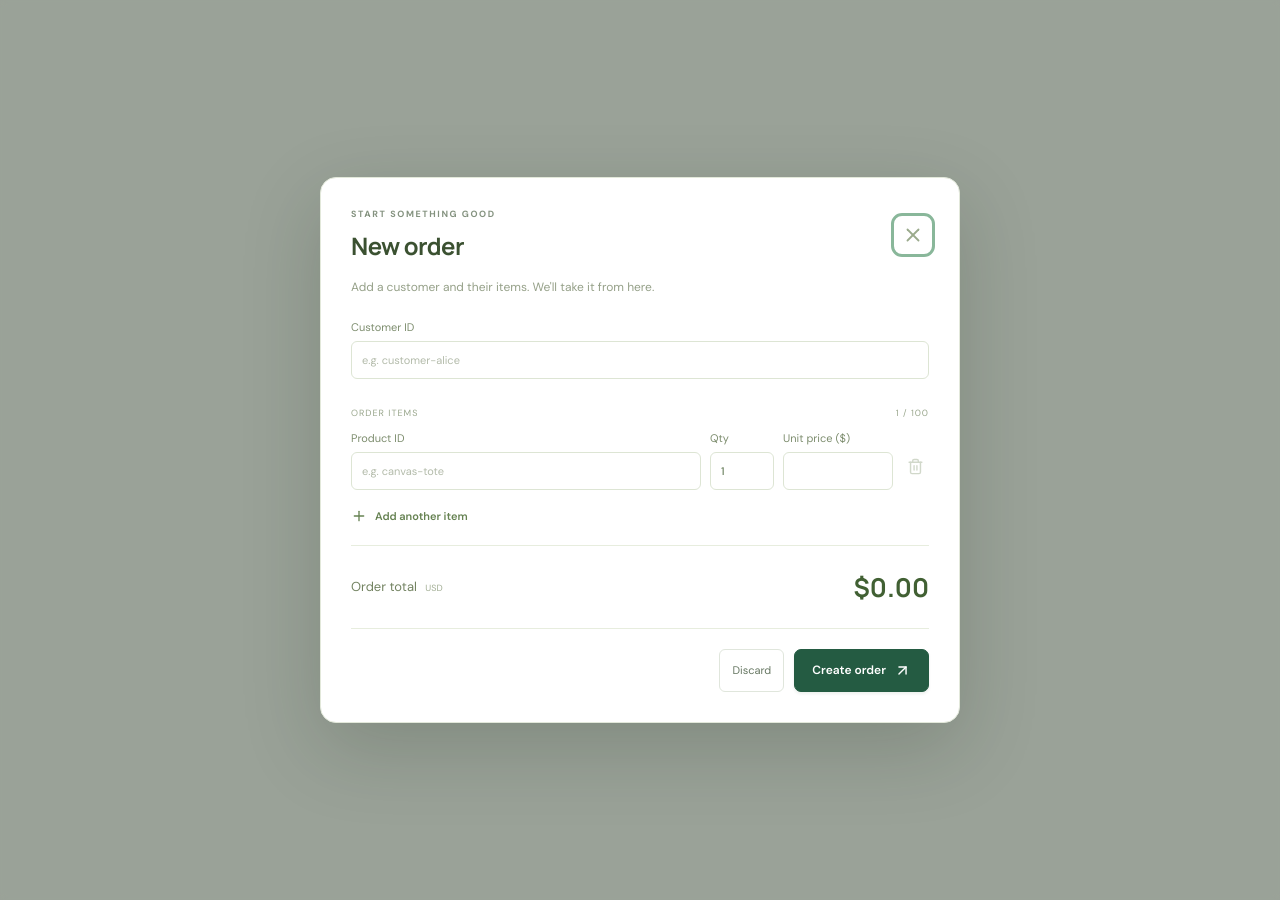
Test: keeps form data after server validation failure
Type "alice" into the field labelled "Customer ID" at (640, 360), box [351,341,929,379]
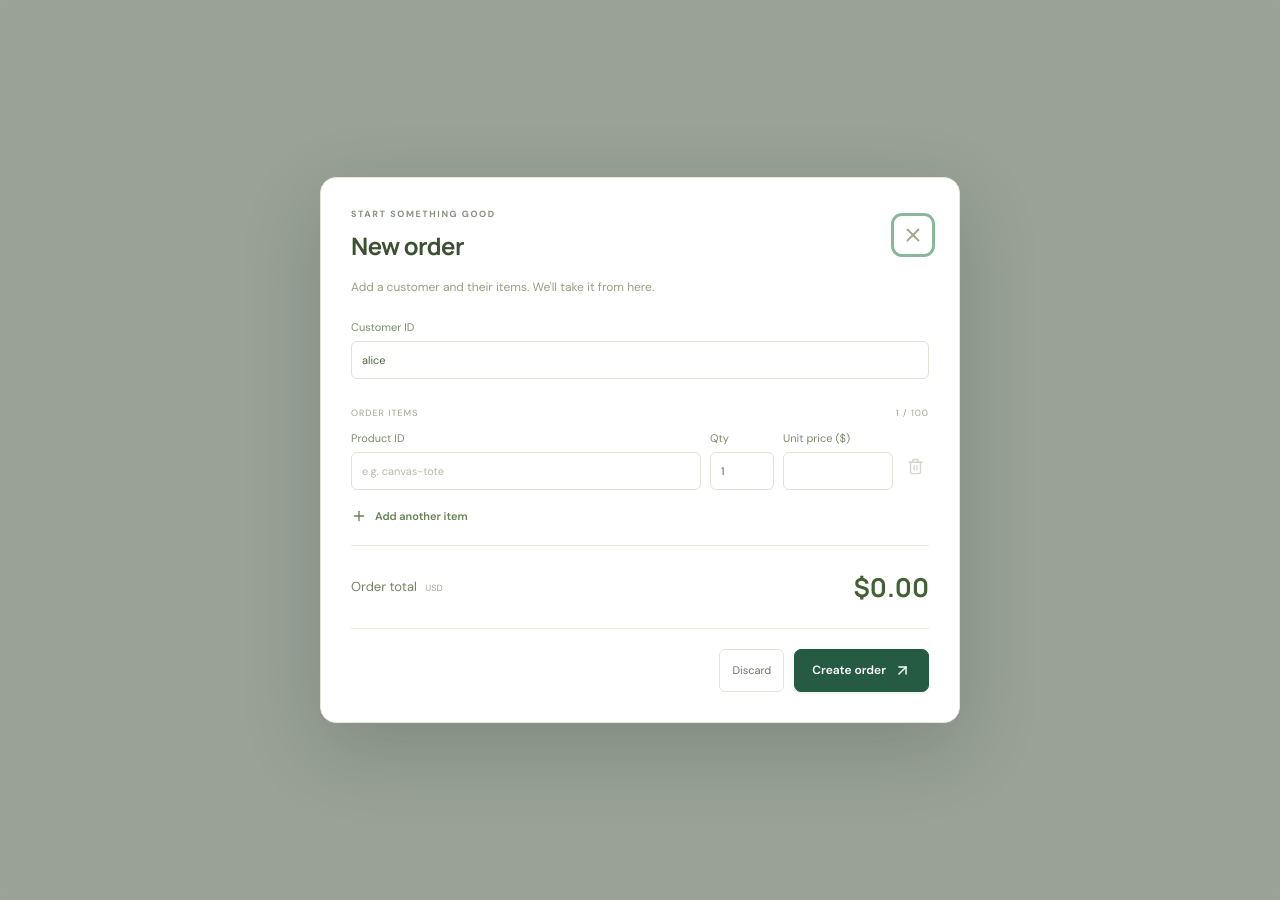
Type "book" into the field named "Product 1" at (526, 471), box [351,452,701,490]
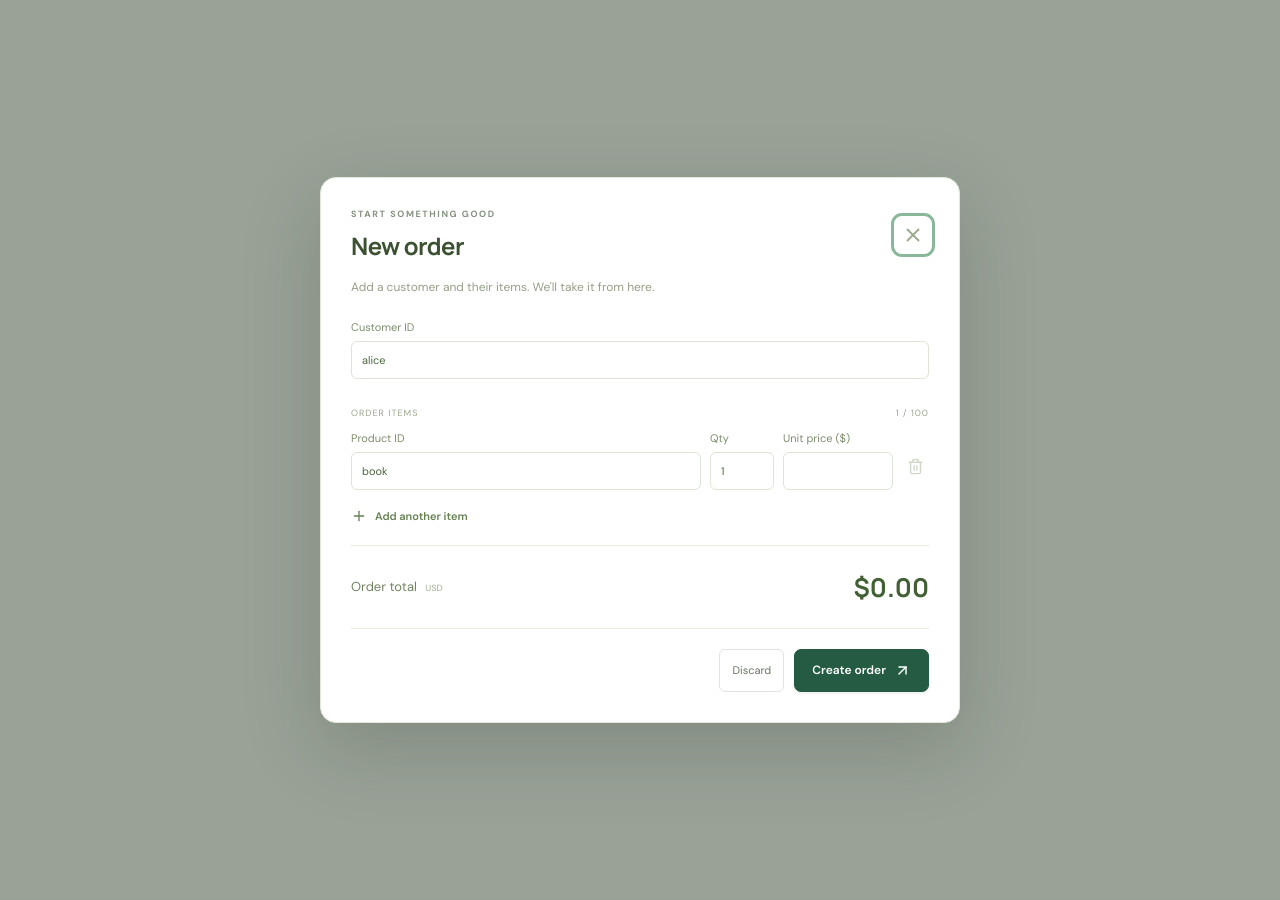
Type "2" into the number field named "Price 1" at (838, 471), box [783,452,893,490]
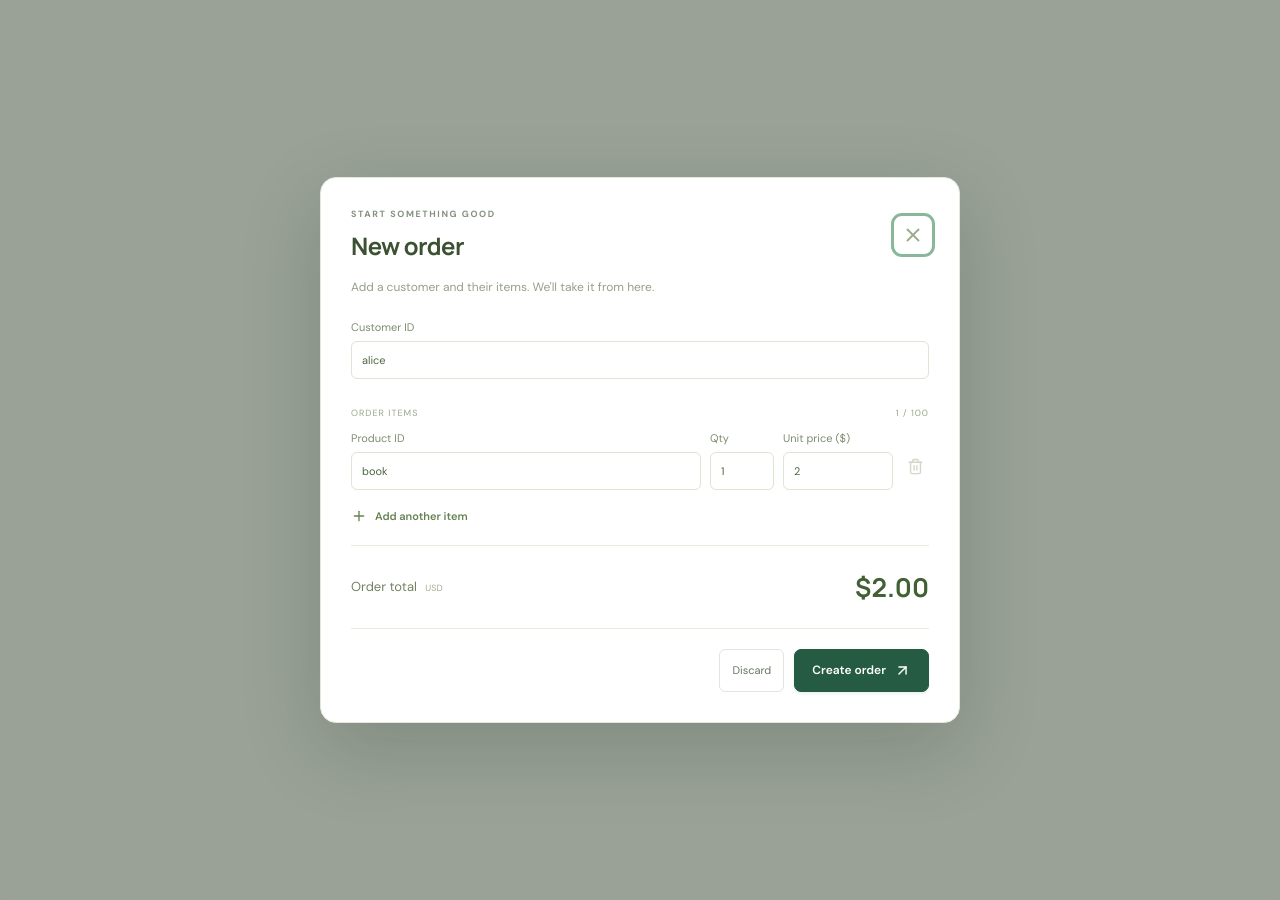
Click the button "Create order" at (862, 670), box [794,649,929,692]
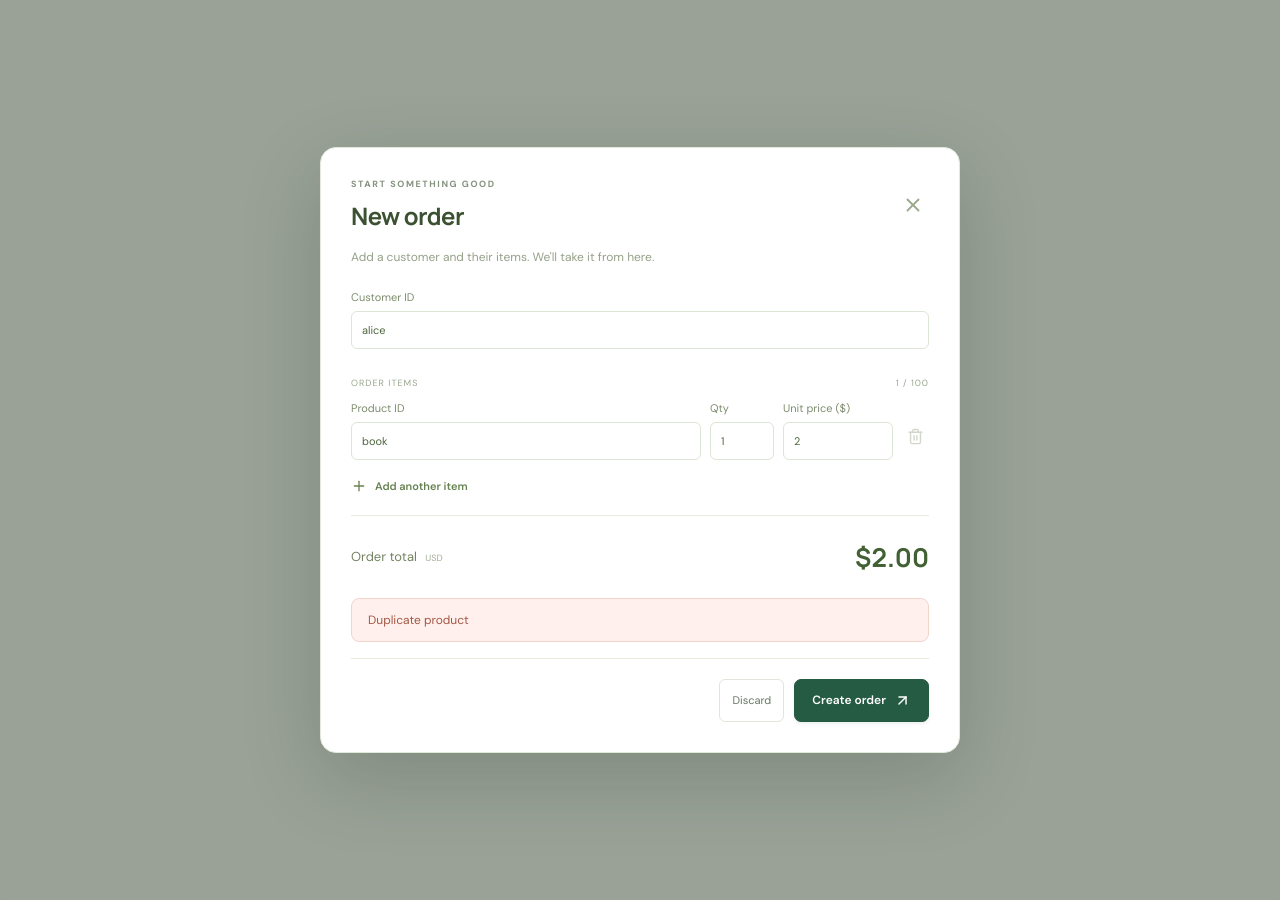
Result: the message reads "Duplicate product" at [368,612,469,628]
